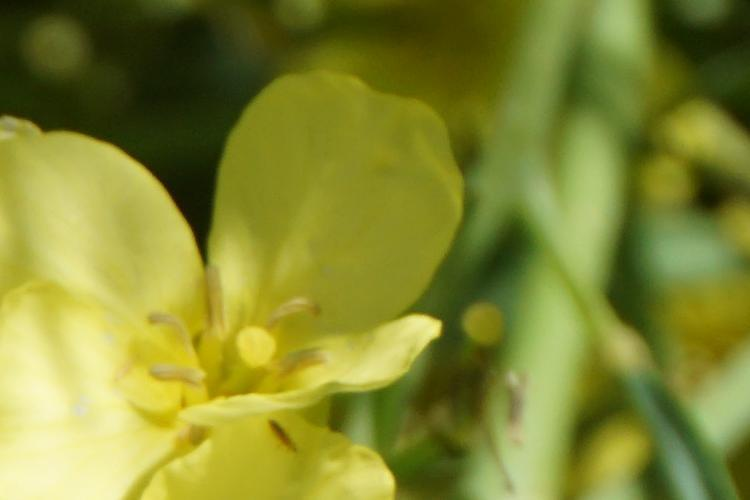yellow: (44, 107, 440, 500)
